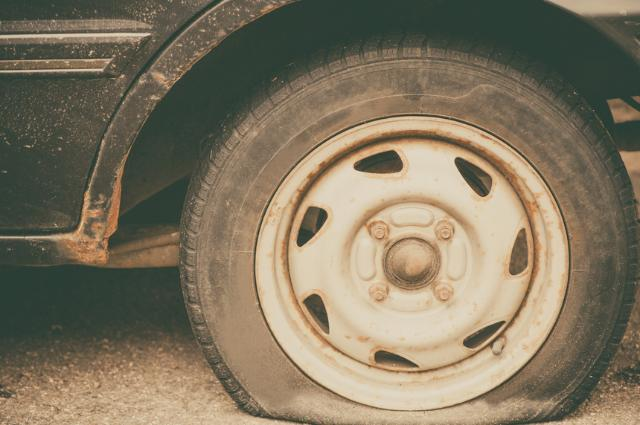Fender: (0, 2, 160, 294)
